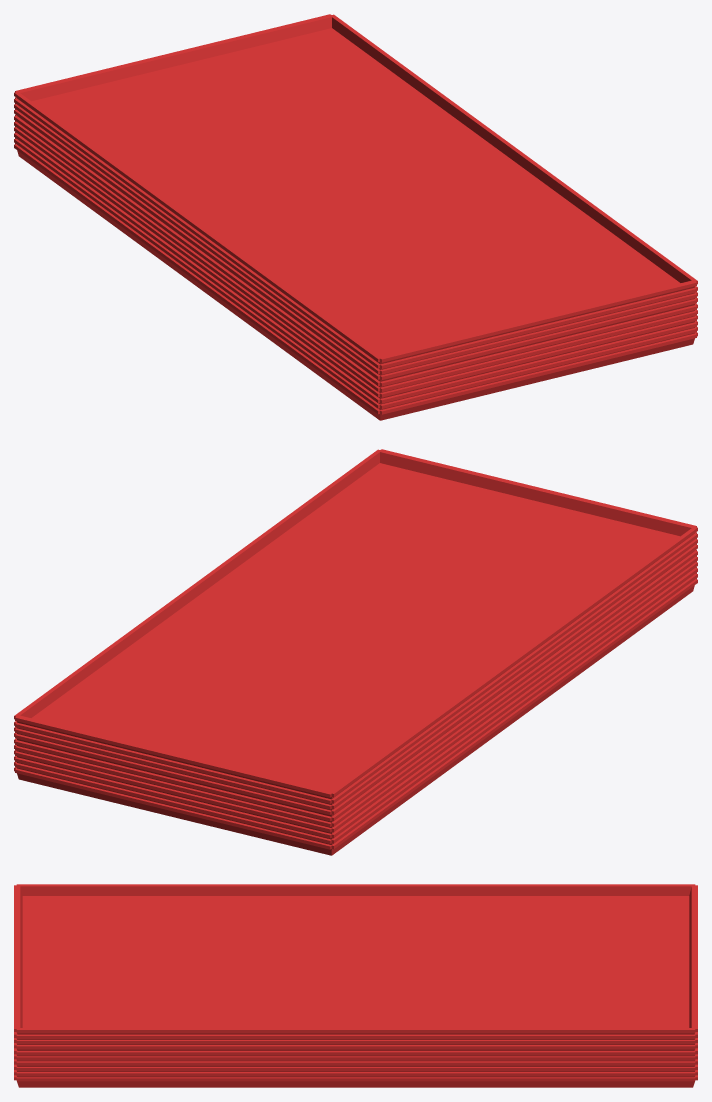
The model's file is podnos01.fbx.
3 views of the same model, one above another, from view 1: azimuth 30°, elevation 25°; view 2: azimuth 150°, elevation 25°; view 3: azimuth 270°, elevation 25° (orthographic). The views are drawn at different scales.
Parts seen in each view (by area): view 1: Cube; view 2: Cube; view 3: Cube.
Part boxes in pixels (x1,y1,x2,y2): Cube: (14, 14, 697, 420); Cube: (14, 449, 697, 855); Cube: (14, 884, 697, 1087).
Bounding box in the file's own units: 20.3 × 3.85 × 40.3.
